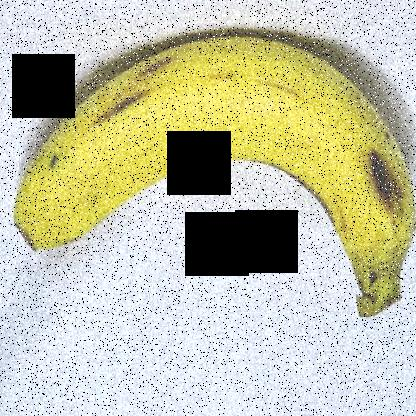freshripe: (5, 24, 415, 327)
